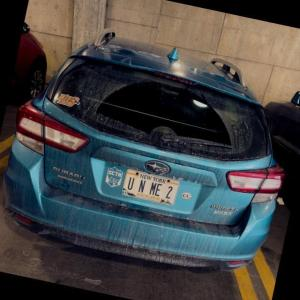Plate: (120, 167, 181, 207)
